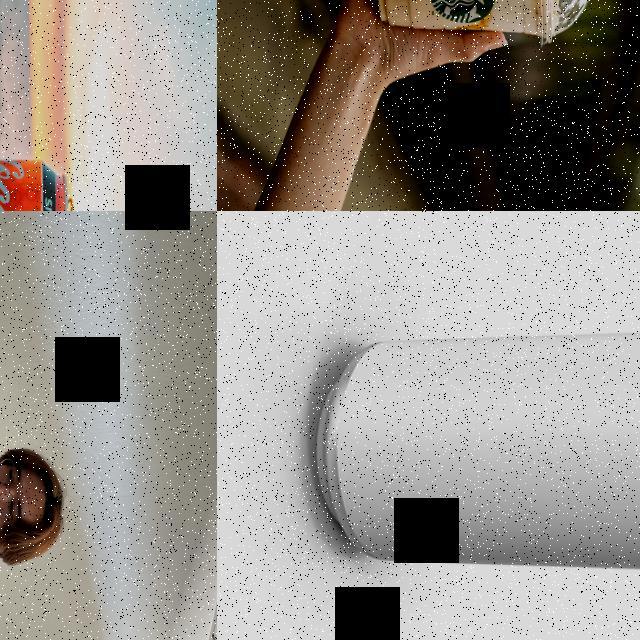can: (311, 329, 640, 571)
cup: (372, 0, 596, 50)
